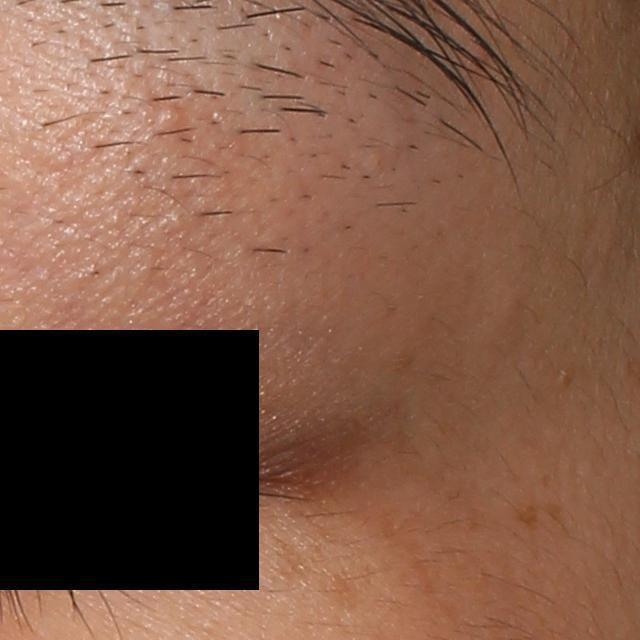comedo: (155, 104, 179, 128)
melasma: (269, 536, 311, 586), (329, 568, 356, 610), (513, 502, 539, 529)
